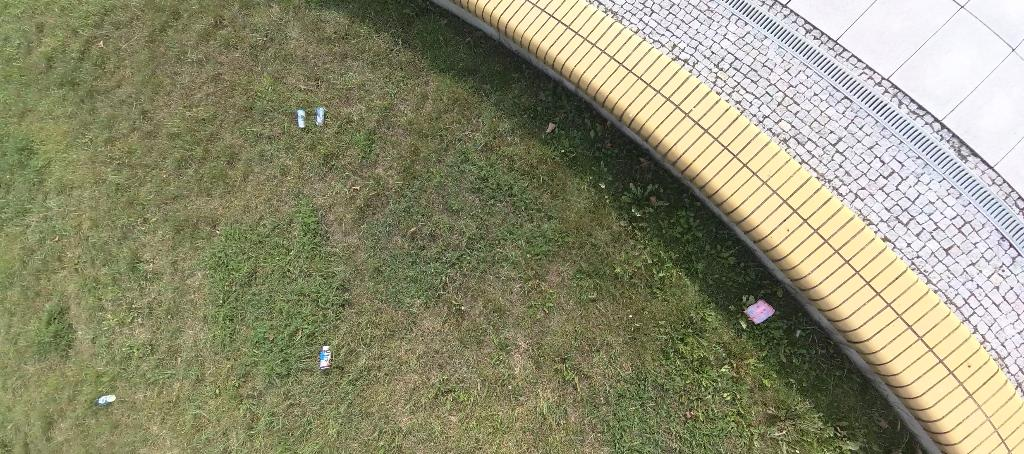garbage: (744, 299, 775, 327), (318, 345, 332, 372), (97, 394, 116, 405), (297, 108, 306, 130), (316, 107, 325, 127)
